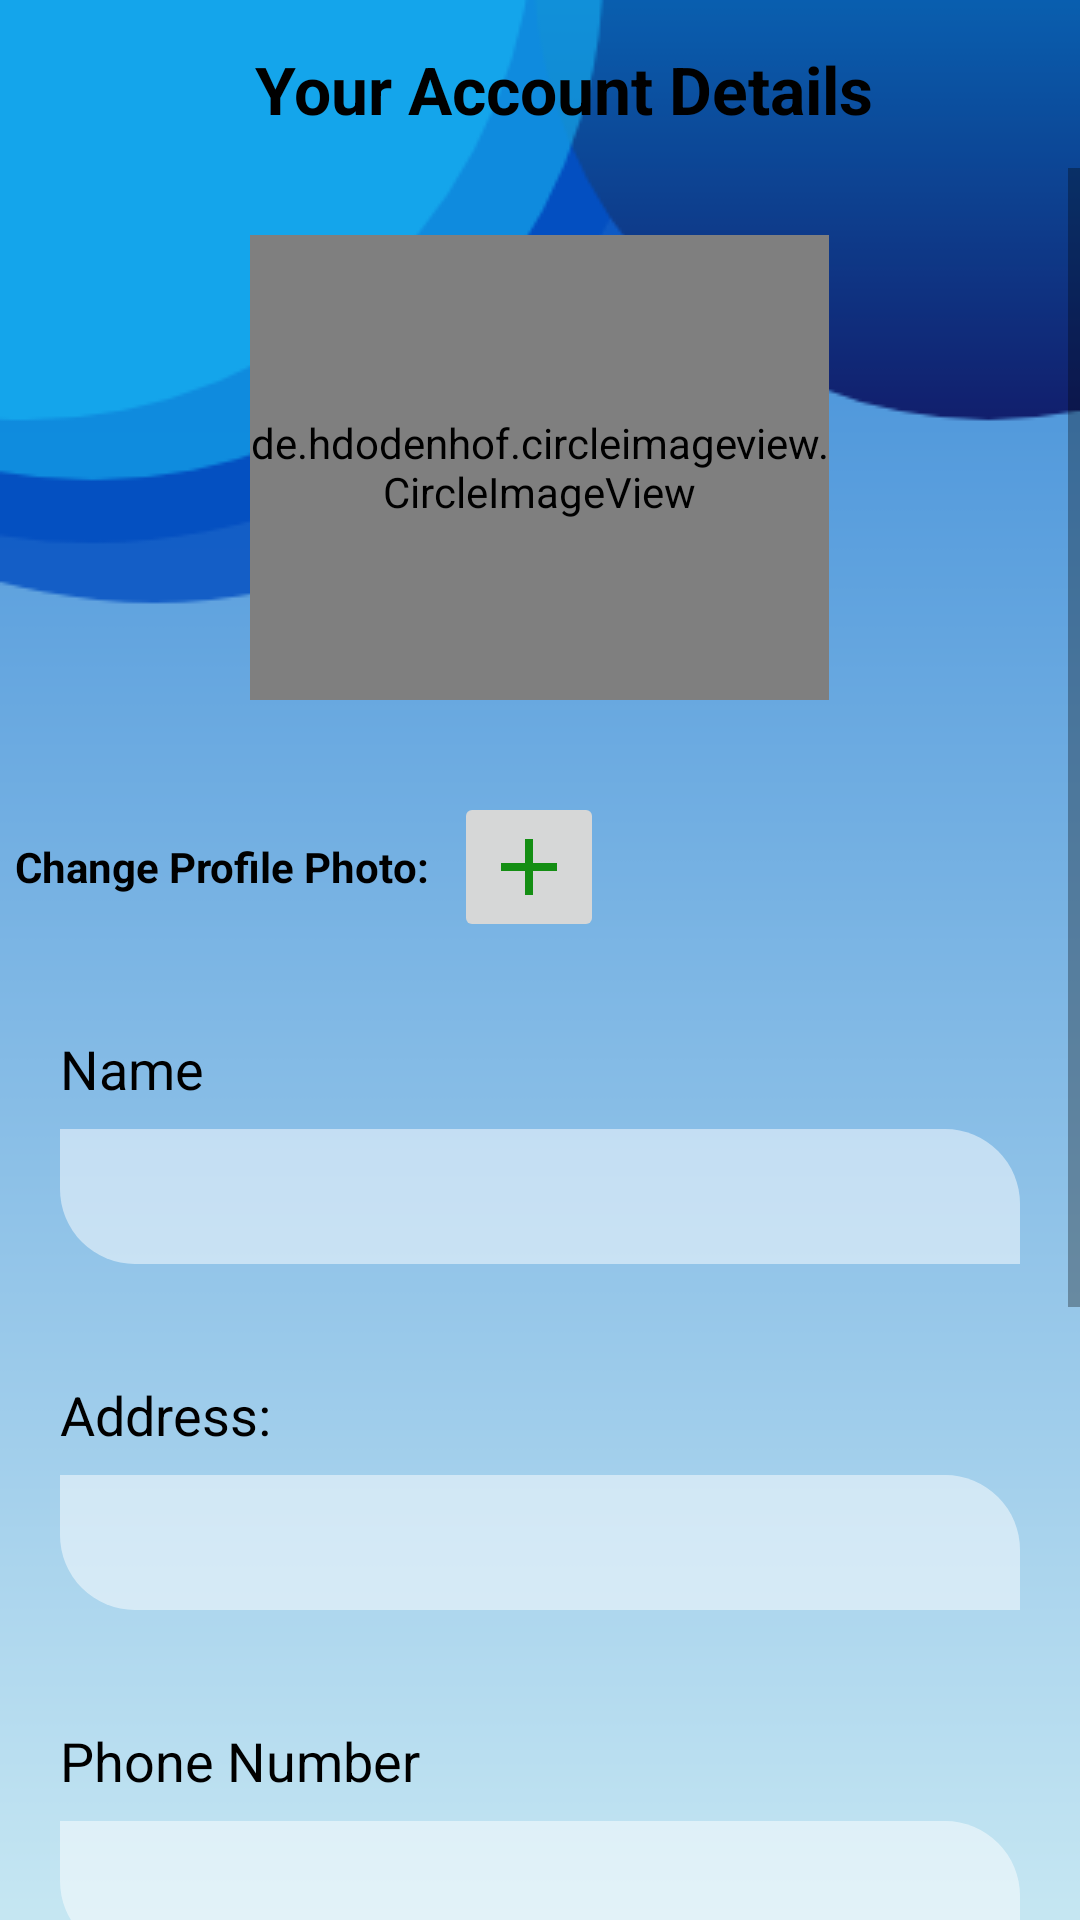

Icons on this 1080 x 1920 Android screen, each with the point to tap as (x=x, y=y):
addicon: (x=529, y=867)
